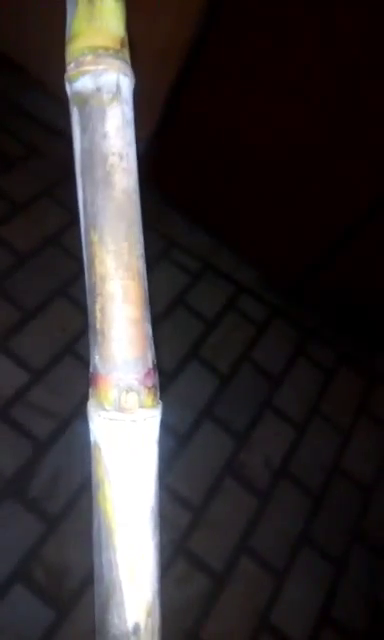cane eye: (116, 385, 144, 415)
